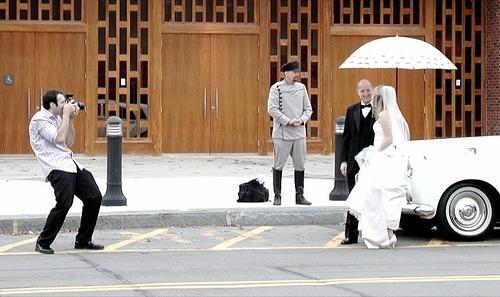car: (402, 134, 500, 239)
